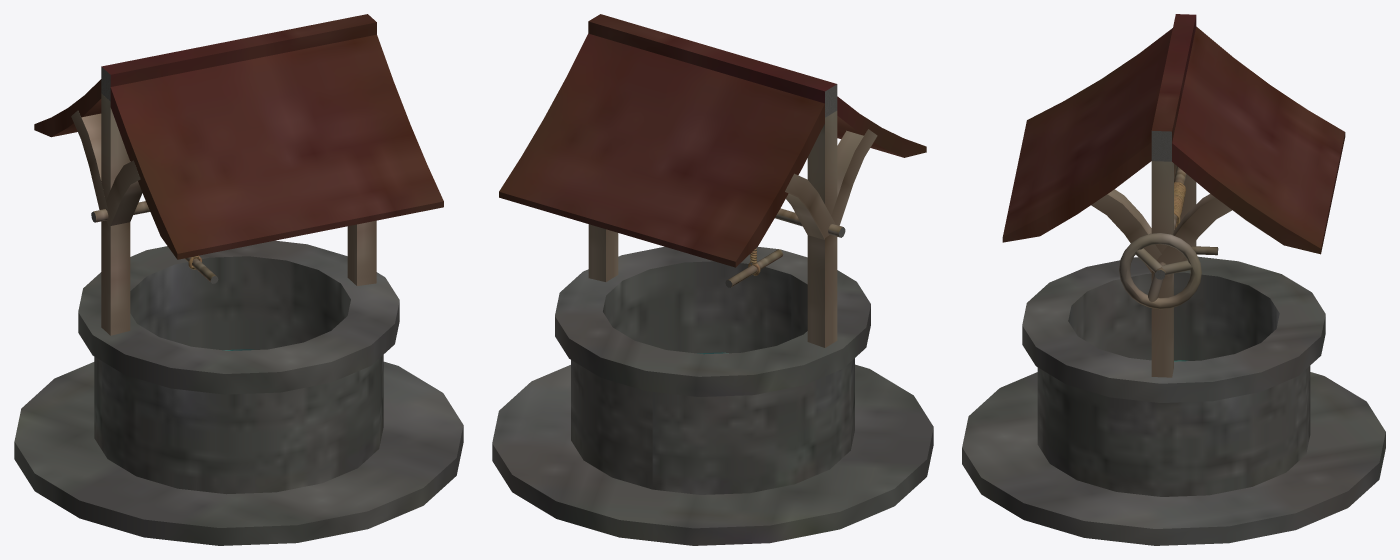
Rendered from well.glb.
3 views of the same model, side by side, from view 1: azimuth 30°, elevation 25°; view 2: azimuth 150°, elevation 25°; view 3: azimuth 270°, elevation 25° (orthographic). The views are drawn at different scales.
Visible parts, largest first — view 1: prefab; view 2: prefab; view 3: prefab.
Boxes of the visible parts, x1,y1,x2,y2 form: prefab: (14, 14, 463, 545); prefab: (492, 14, 933, 545); prefab: (962, 14, 1385, 545).
Bounding box in the file's own units: 1.93 × 1.94 × 1.93.
2 materials, 2 textured.
